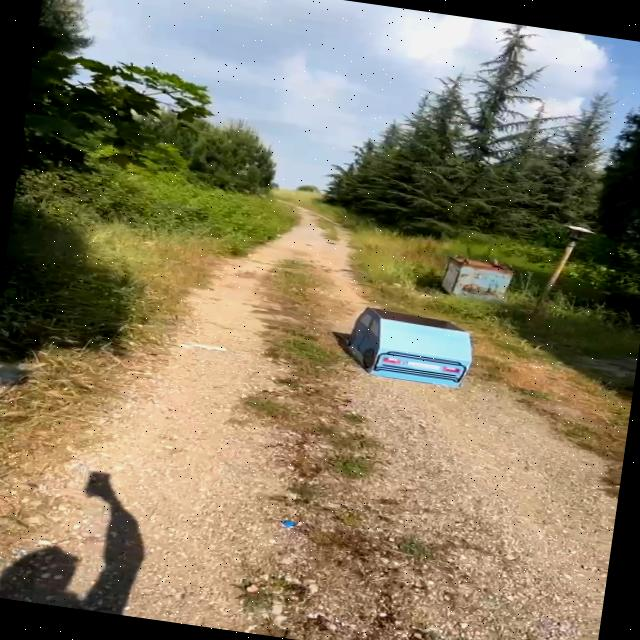blue_car: (318, 290, 492, 406)
